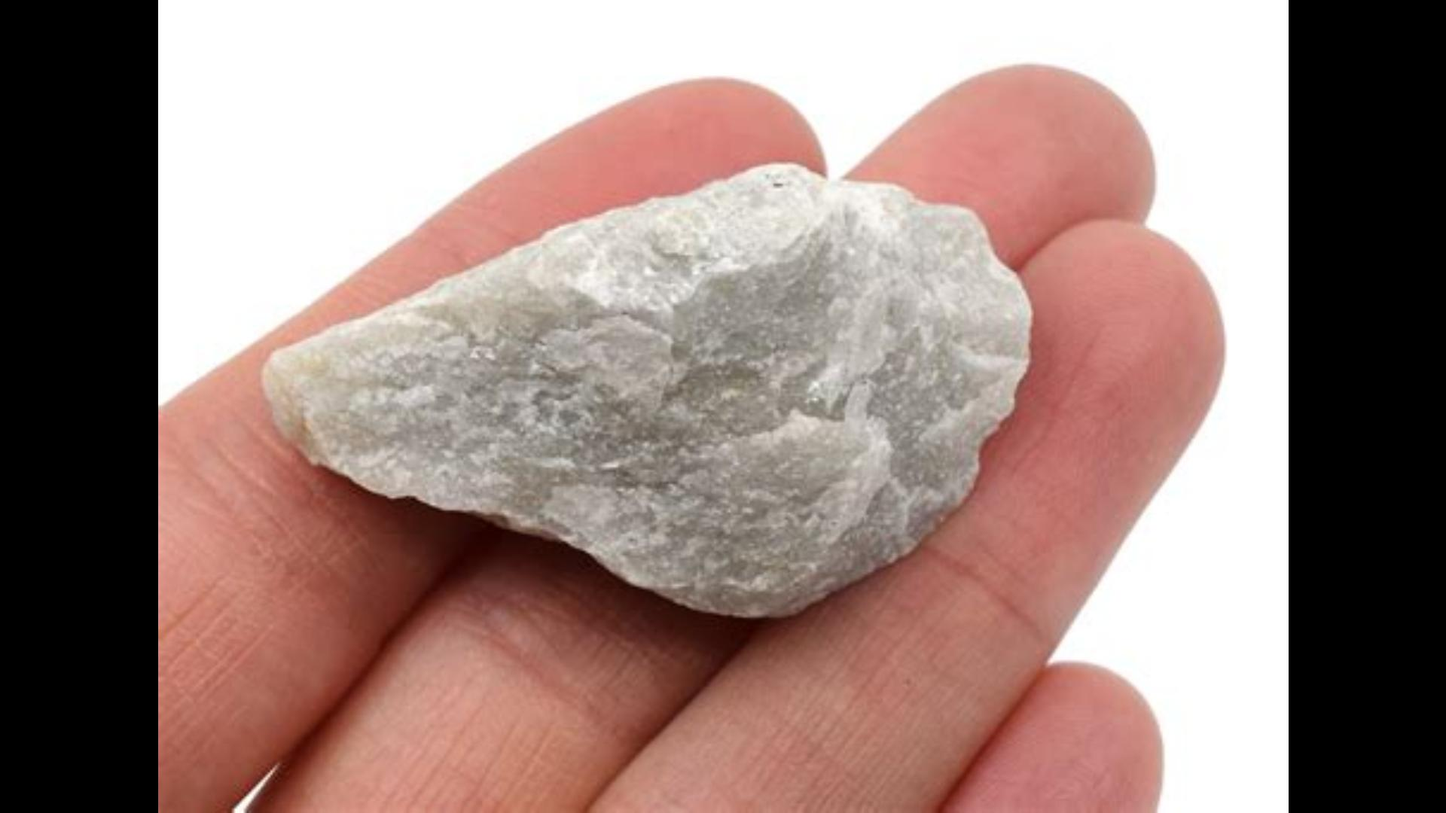rock: (262, 165, 1028, 615)
